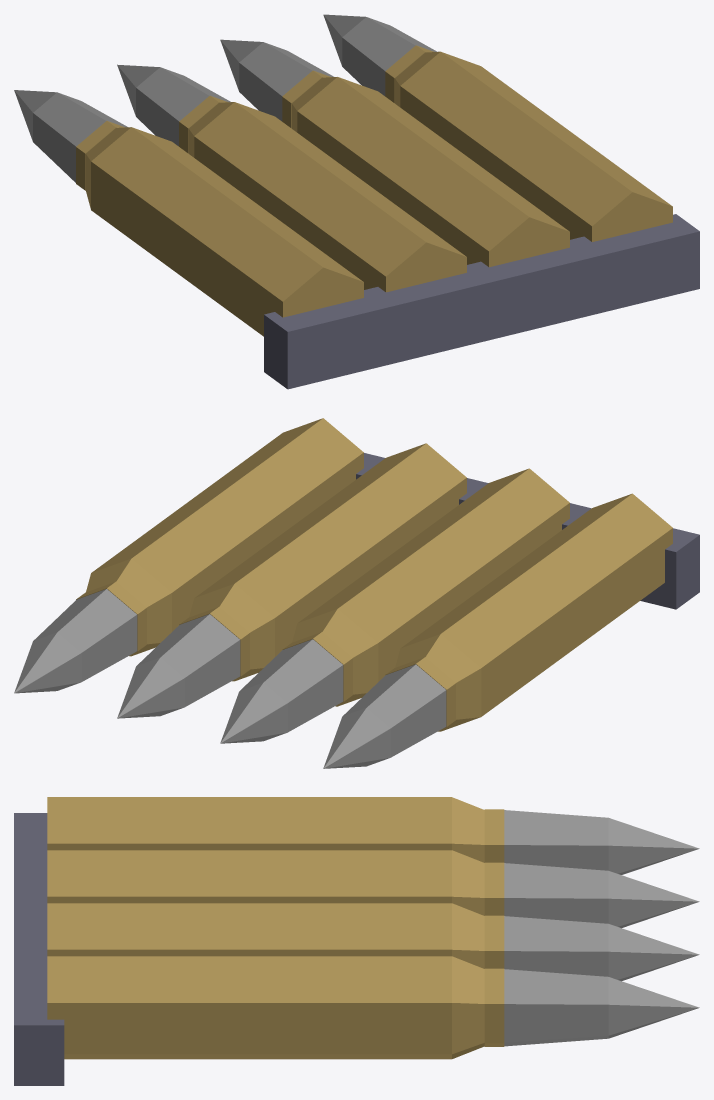
Rendered from ce_ammo_light_ap_b.obj.
3 renders of one model, top to bottom at view 1: azimuth 30°, elevation 25°; view 2: azimuth 150°, elevation 25°; view 3: azimuth 270°, elevation 25°, orthographic. The views are drawn at different scales.
Parts seen in each view (by area): view 1: ce_ammo_light_ap_b_20, ce_ammo_light_ap_b_0, ce_ammo_light_ap_b_10, ce_ammo_light_ap_b_15, ce_ammo_light_ap_b_5, ce_ammo_light_ap_b_3, ce_ammo_light_ap_b_18, ce_ammo_light_ap_b_13, ce_ammo_light_ap_b_8, ce_ammo_light_ap_b_2, ce_ammo_light_ap_b_14, ce_ammo_light_ap_b_19 (+9 smaller); view 2: ce_ammo_light_ap_b_0, ce_ammo_light_ap_b_5, ce_ammo_light_ap_b_10, ce_ammo_light_ap_b_15, ce_ammo_light_ap_b_3, ce_ammo_light_ap_b_8, ce_ammo_light_ap_b_18, ce_ammo_light_ap_b_13, ce_ammo_light_ap_b_20, ce_ammo_light_ap_b_1, ce_ammo_light_ap_b_6, ce_ammo_light_ap_b_11 (+9 smaller); view 3: ce_ammo_light_ap_b_15, ce_ammo_light_ap_b_0, ce_ammo_light_ap_b_5, ce_ammo_light_ap_b_10, ce_ammo_light_ap_b_20, ce_ammo_light_ap_b_18, ce_ammo_light_ap_b_8, ce_ammo_light_ap_b_13, ce_ammo_light_ap_b_3, ce_ammo_light_ap_b_16, ce_ammo_light_ap_b_19, ce_ammo_light_ap_b_4 (+9 smaller).
Part boxes in pixels (left/top/right/bottom): ce_ammo_light_ap_b_20: left=264, top=214, right=699, bottom=389; ce_ammo_light_ap_b_0: left=91, top=127, right=363, bottom=336; ce_ammo_light_ap_b_10: left=297, top=77, right=569, bottom=267; ce_ammo_light_ap_b_15: left=400, top=52, right=672, bottom=241; ce_ammo_light_ap_b_5: left=194, top=102, right=466, bottom=292; ce_ammo_light_ap_b_3: left=33, top=92, right=127, bottom=182; ce_ammo_light_ap_b_18: left=342, top=17, right=437, bottom=96; ce_ammo_light_ap_b_13: left=239, top=42, right=333, bottom=121; ce_ammo_light_ap_b_8: left=136, top=67, right=230, bottom=146; ce_ammo_light_ap_b_2: left=76, top=121, right=124, bottom=190; ce_ammo_light_ap_b_14: left=220, top=39, right=262, bottom=91; ce_ammo_light_ap_b_19: left=323, top=14, right=365, bottom=66; ce_ammo_light_ap_b_0: left=401, top=493, right=672, bottom=716; ce_ammo_light_ap_b_5: left=298, top=468, right=569, bottom=681; ce_ammo_light_ap_b_10: left=195, top=443, right=466, bottom=656; ce_ammo_light_ap_b_15: left=92, top=418, right=363, bottom=631; ce_ammo_light_ap_b_3: left=342, top=664, right=446, bottom=757; ce_ammo_light_ap_b_8: left=240, top=639, right=343, bottom=732; ce_ammo_light_ap_b_18: left=33, top=589, right=137, bottom=681; ce_ammo_light_ap_b_13: left=137, top=614, right=240, bottom=706; ce_ammo_light_ap_b_20: left=356, top=453, right=699, bottom=609; ce_ammo_light_ap_b_1: left=395, top=634, right=481, bottom=731; ce_ammo_light_ap_b_6: left=292, top=609, right=378, bottom=706; ce_ammo_light_ap_b_11: left=189, top=583, right=274, bottom=681; ce_ammo_light_ap_b_15: left=47, top=956, right=451, bottom=1059; ce_ammo_light_ap_b_0: left=47, top=797, right=451, bottom=850; ce_ammo_light_ap_b_5: left=47, top=850, right=451, bottom=903; ce_ammo_light_ap_b_10: left=47, top=903, right=451, bottom=956; ce_ammo_light_ap_b_20: left=14, top=813, right=64, bottom=1085; ce_ammo_light_ap_b_18: left=504, top=969, right=608, bottom=1046; ce_ammo_light_ap_b_8: left=504, top=863, right=608, bottom=923; ce_ammo_light_ap_b_13: left=504, top=916, right=608, bottom=976; ce_ammo_light_ap_b_3: left=504, top=810, right=608, bottom=870; ce_ammo_light_ap_b_16: left=452, top=956, right=484, bottom=1058; ce_ammo_light_ap_b_19: left=608, top=977, right=699, bottom=1038; ce_ammo_light_ap_b_4: left=608, top=818, right=699, bottom=874.
Bounding box in the file's own units: 0.6 × 0.136 × 0.82.
